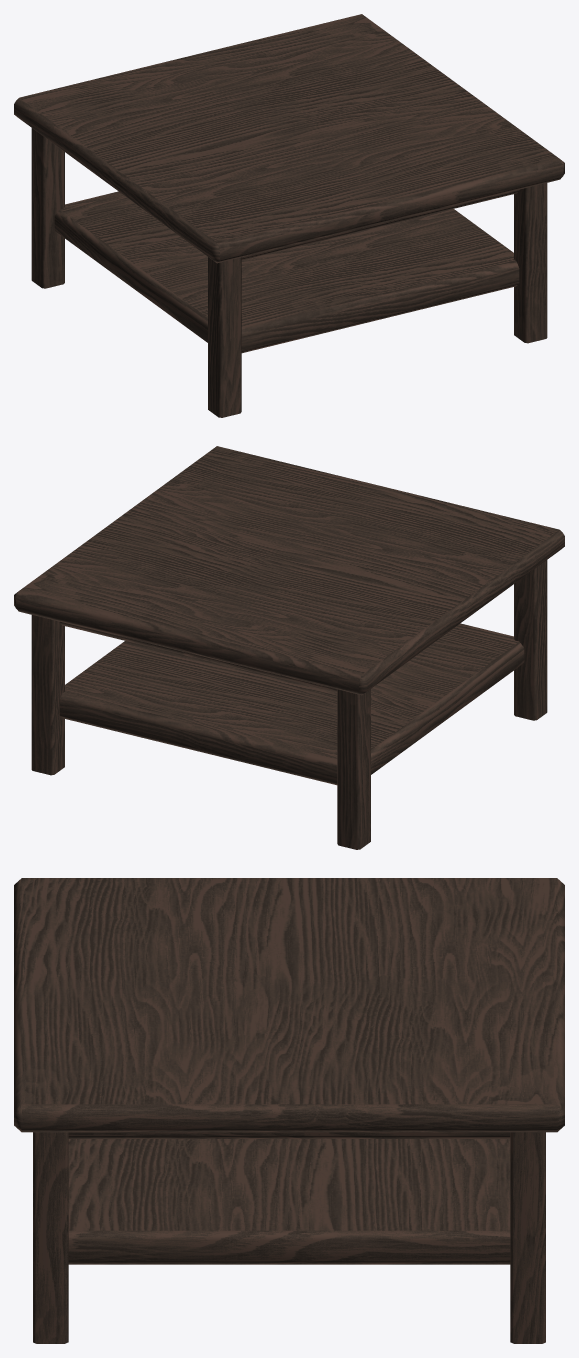
File: coffee_table_012.fbx
The picture shows the model from 3 angles, top to bottom: view 1: azimuth 30°, elevation 25°; view 2: azimuth 150°, elevation 25°; view 3: azimuth 270°, elevation 25°; orthographic projection. The views are drawn at different scales.
Visible parts, largest first — view 1: coffee_table_012; view 2: coffee_table_012; view 3: coffee_table_012.
Boxes of the visible parts, left/top/right/bottom form: coffee_table_012: left=14, top=14, right=564, bottom=417; coffee_table_012: left=14, top=446, right=564, bottom=849; coffee_table_012: left=14, top=878, right=564, bottom=1343.
Bounding box in the file's own units: 124 × 124 × 60.44.
